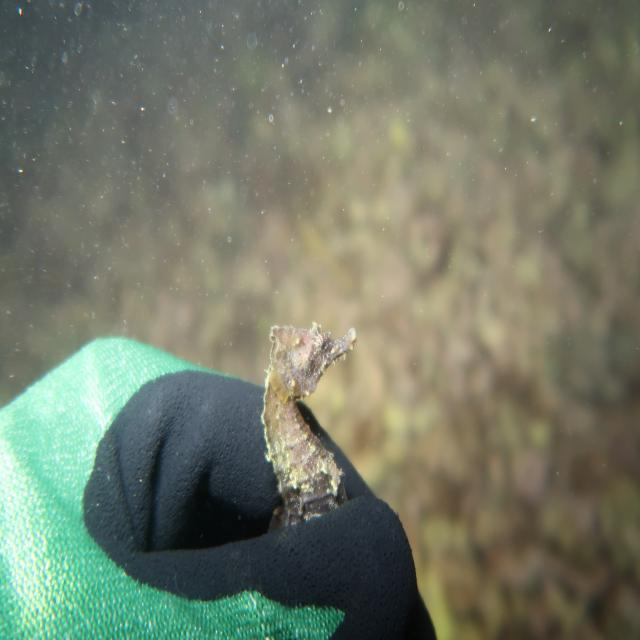Hippo: (264, 315, 362, 397)
